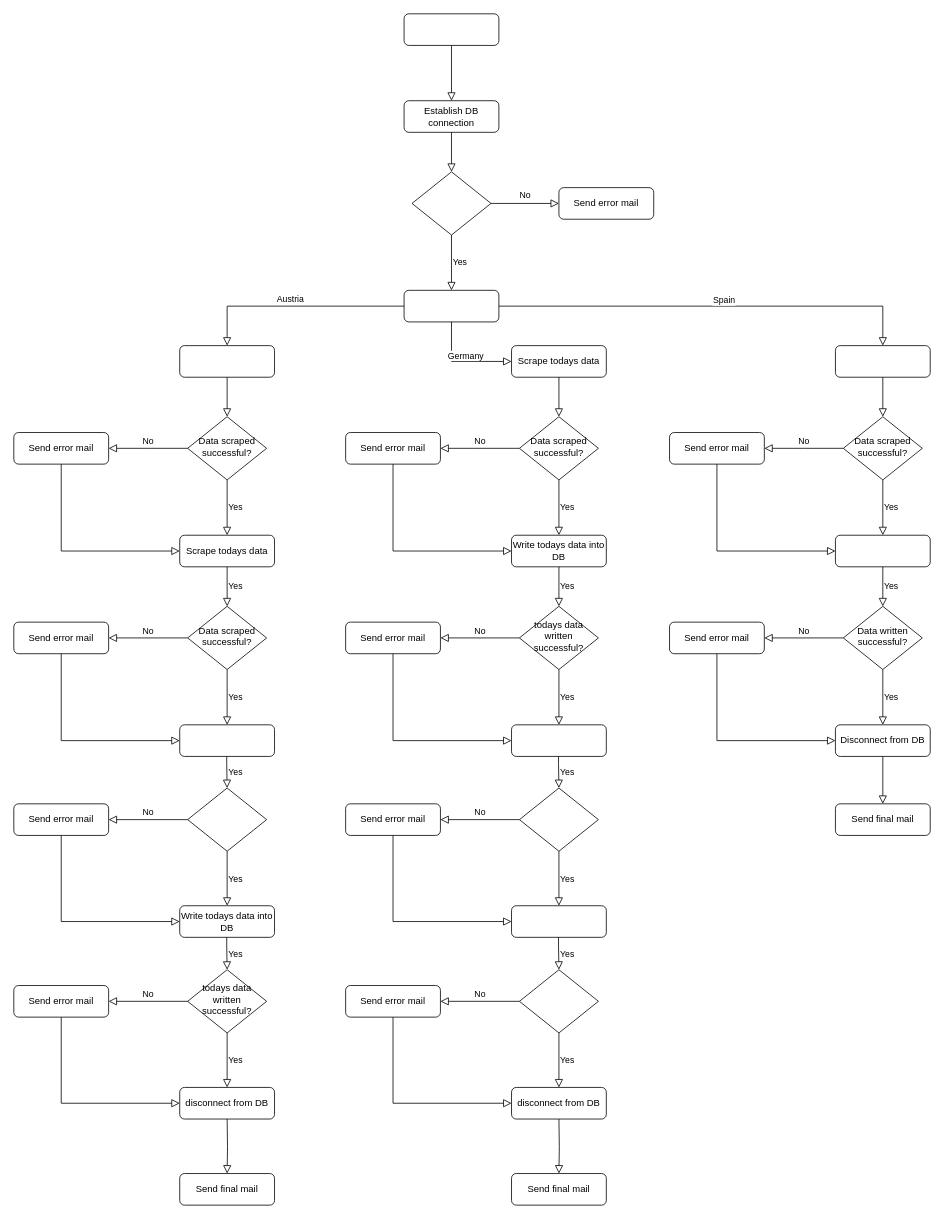
Some shapes in this 944 by 1219 pixel diagram are drawn without their labels. Each missing label, with the centre of its shape:
Connection established?: the point at 451,203
incidence data scraped successful?: the point at 558,819
incidence data written successful?: the point at 558,1001
Scrape (timeline) data: the point at 882,361
Scrape incidence data: the point at 558,740
Scrape timeline data: the point at 227,361
Set up mailing service: the point at 451,29
Start scraping data: the point at 451,306
timeline data written successful?: the point at 227,819
Write data into DB: the point at 882,550
Write incidence into DB: the point at 558,921
Write timeline data into DB: the point at 227,740
